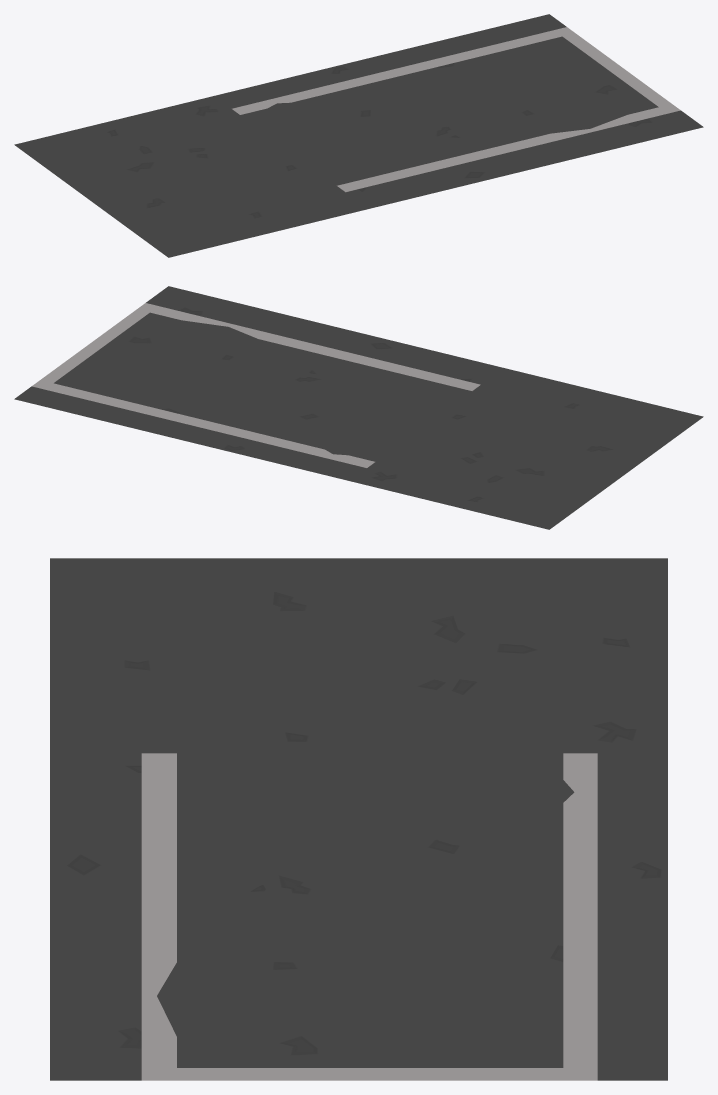
The model's file is SM_Gen_Env_Road_Parking_05.fbx.
3 renders of one model, top to bottom at view 1: azimuth 30°, elevation 25°; view 2: azimuth 150°, elevation 25°; view 3: azimuth 270°, elevation 25°, orthographic. The views are drawn at different scales.
Visible parts, largest first — view 1: SM_Gen_Env_Road_Parking_05; view 2: SM_Gen_Env_Road_Parking_05; view 3: SM_Gen_Env_Road_Parking_05.
Part boxes in pixels (<box>): SM_Gen_Env_Road_Parking_05: <box>14,14,703,257</box>; SM_Gen_Env_Road_Parking_05: <box>14,286,703,529</box>; SM_Gen_Env_Road_Parking_05: <box>50,558,667,1080</box>.
Bounding box in the file's own units: 1000 × 0.0107 × 500.
